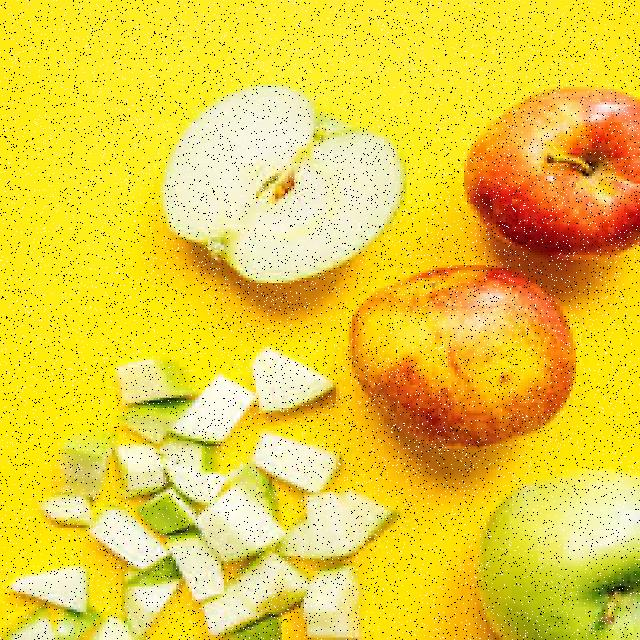Apple: (169, 84, 397, 282), (351, 264, 576, 451), (463, 84, 640, 262), (476, 475, 638, 640), (292, 494, 400, 561), (198, 492, 281, 560), (250, 347, 339, 410), (120, 551, 178, 640), (179, 377, 254, 444), (255, 433, 343, 488), (106, 438, 169, 509), (234, 552, 307, 612), (306, 570, 366, 640), (92, 512, 172, 564), (57, 436, 115, 498), (105, 396, 186, 440), (113, 353, 185, 401), (17, 564, 89, 608), (176, 544, 223, 608), (144, 487, 202, 535), (170, 462, 224, 499), (162, 435, 206, 474), (214, 616, 280, 640), (41, 498, 93, 528), (58, 606, 100, 640), (9, 611, 54, 640)
